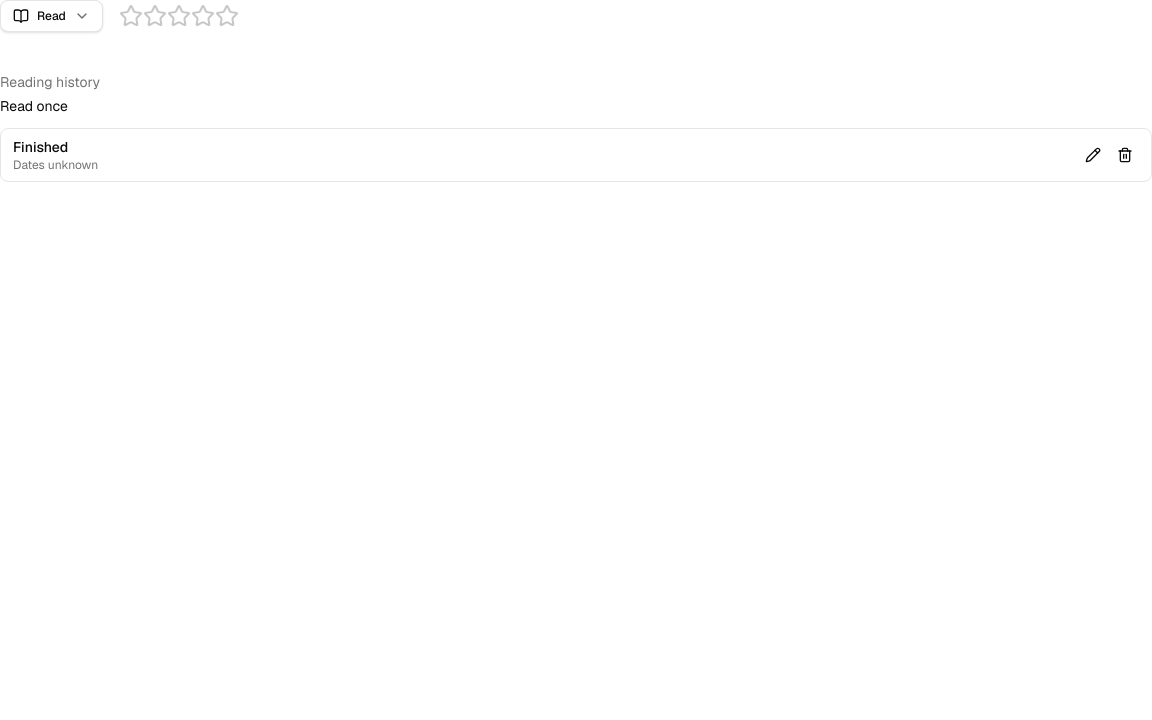
Scenario: ReadingHistory › deletes a Read-through after confirming
The width and height of the screenshot is (1152, 720).
Click the button named "Delete Read-through" at (1125, 155), box [1111,141,1139,169]
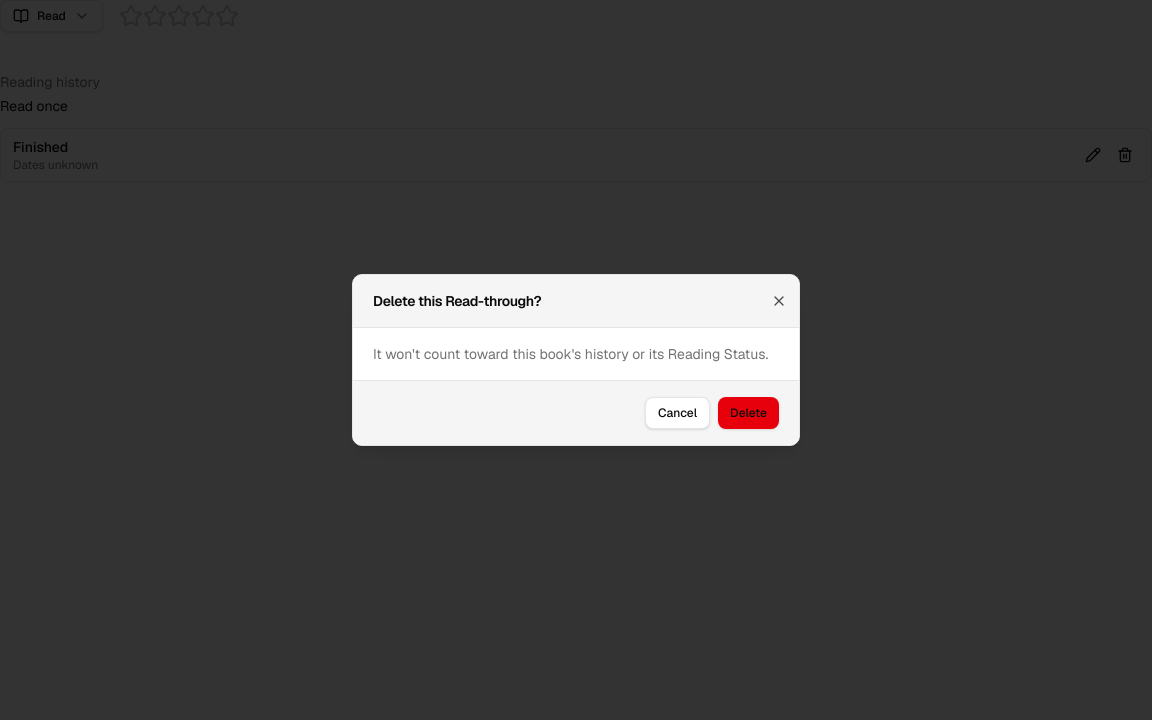
Click the button "Delete" at (749, 413), box [718,397,779,429]
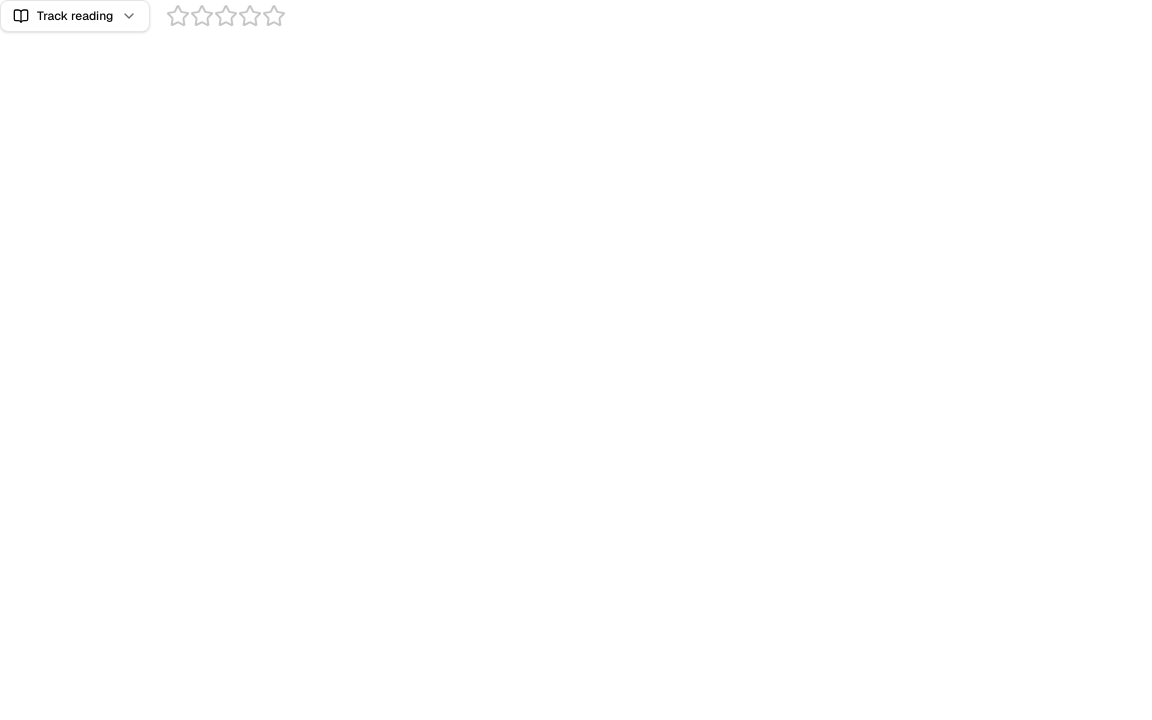
Now the heading "Reading history" is gone
